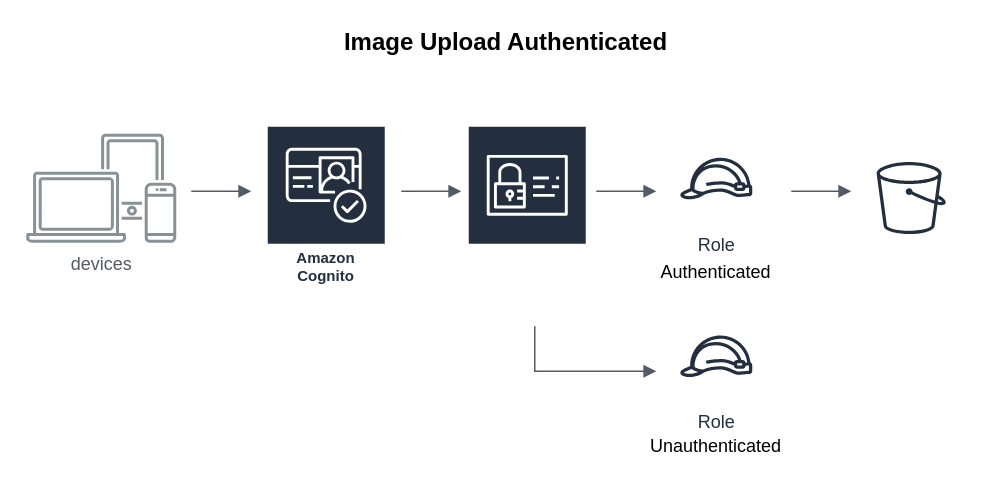
The diagram is 983 pixels wide and 486 high, and some of its shapes have lost their labels. The shapes that lost their labels are listed below. From the top down, each one's box as (x1, y1, x2, y2) in pixels, then its label:
(466, 124, 587, 305): AWS Identity and Access Management
(865, 152, 956, 243): Bucket
